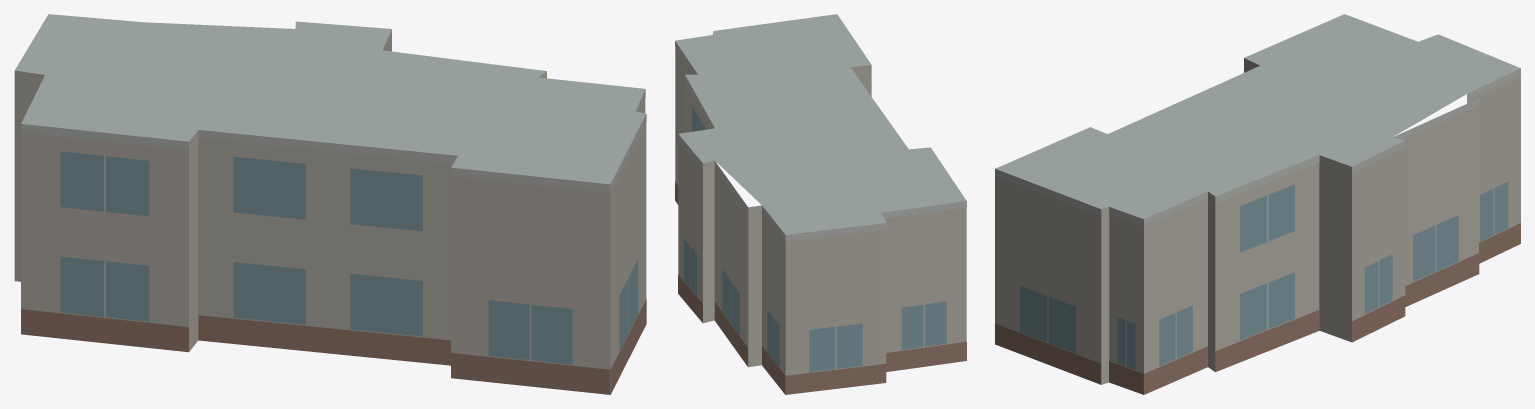
The model's file is survey-upis-33003712.glb.
3 views of the same model, side by side, from view 1: azimuth 30°, elevation 25°; view 2: azimuth 150°, elevation 25°; view 3: azimuth 270°, elevation 25° (orthographic). The views are drawn at different scales.
Visible parts, largest first — view 1: survey-upis-33003712.tmp; view 2: survey-upis-33003712.tmp; view 3: survey-upis-33003712.tmp.
Part boxes in pixels (x1,y1,x2,y2): survey-upis-33003712.tmp: [14, 14, 646, 394]; survey-upis-33003712.tmp: [675, 14, 966, 394]; survey-upis-33003712.tmp: [995, 14, 1520, 394].
Bounding box in the file's own units: 15.3 × 6.1 × 16.56.
